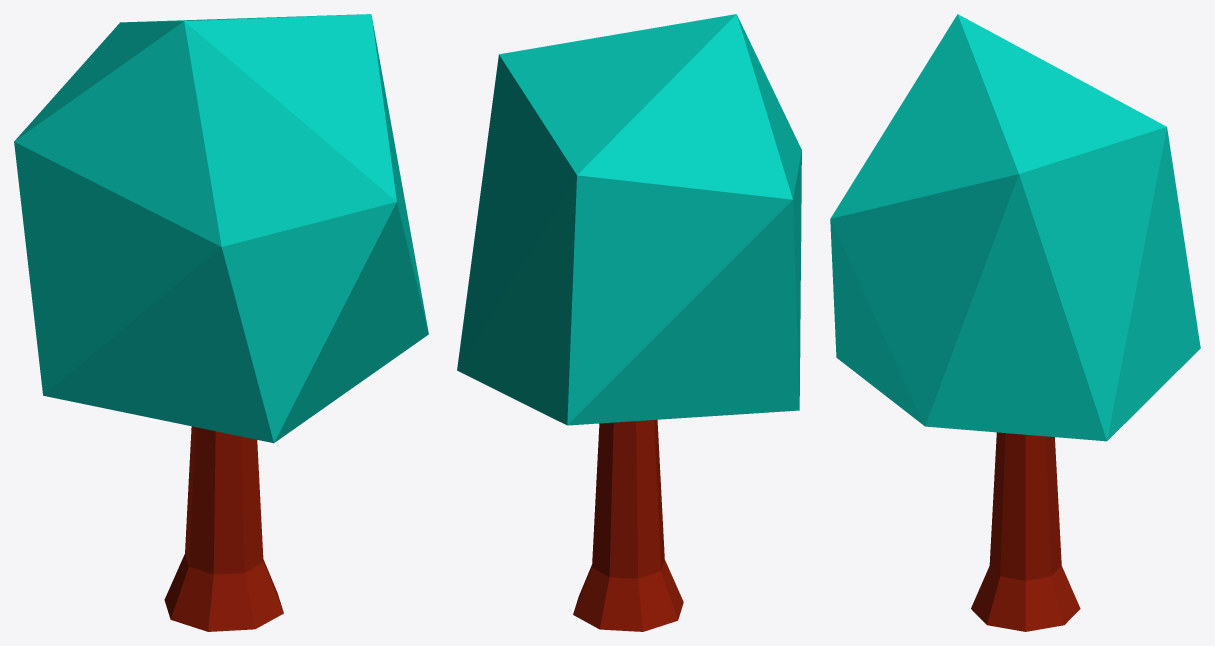
The model's file is tree9.fbx.
The picture shows the model from 3 angles, left to right: view 1: azimuth 30°, elevation 25°; view 2: azimuth 150°, elevation 25°; view 3: azimuth 270°, elevation 25°; orthographic projection. The views are drawn at different scales.
Visible parts, largest first — view 1: Cylinder.001, Cylinder; view 2: Cylinder.001, Cylinder; view 3: Cylinder.001, Cylinder.
Boxes of the visible parts, x1,y1,x2,y2 form: Cylinder.001: (14,14,428,443); Cylinder: (164,426,283,631); Cylinder.001: (457,14,801,425); Cylinder: (573,419,683,631); Cylinder.001: (830,14,1200,441); Cylinder: (971,432,1080,631).
Size of the model in its own units: 162 by 287 by 172.
